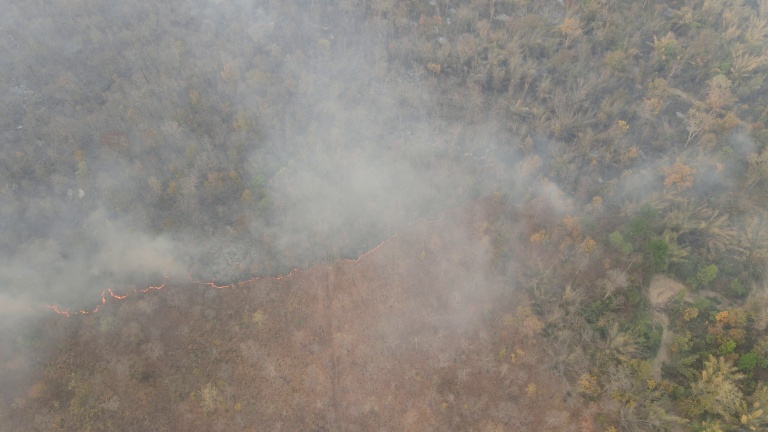fire: (187, 230, 404, 291), (1, 267, 183, 325)
smoke: (4, 1, 574, 395), (580, 111, 768, 232)
